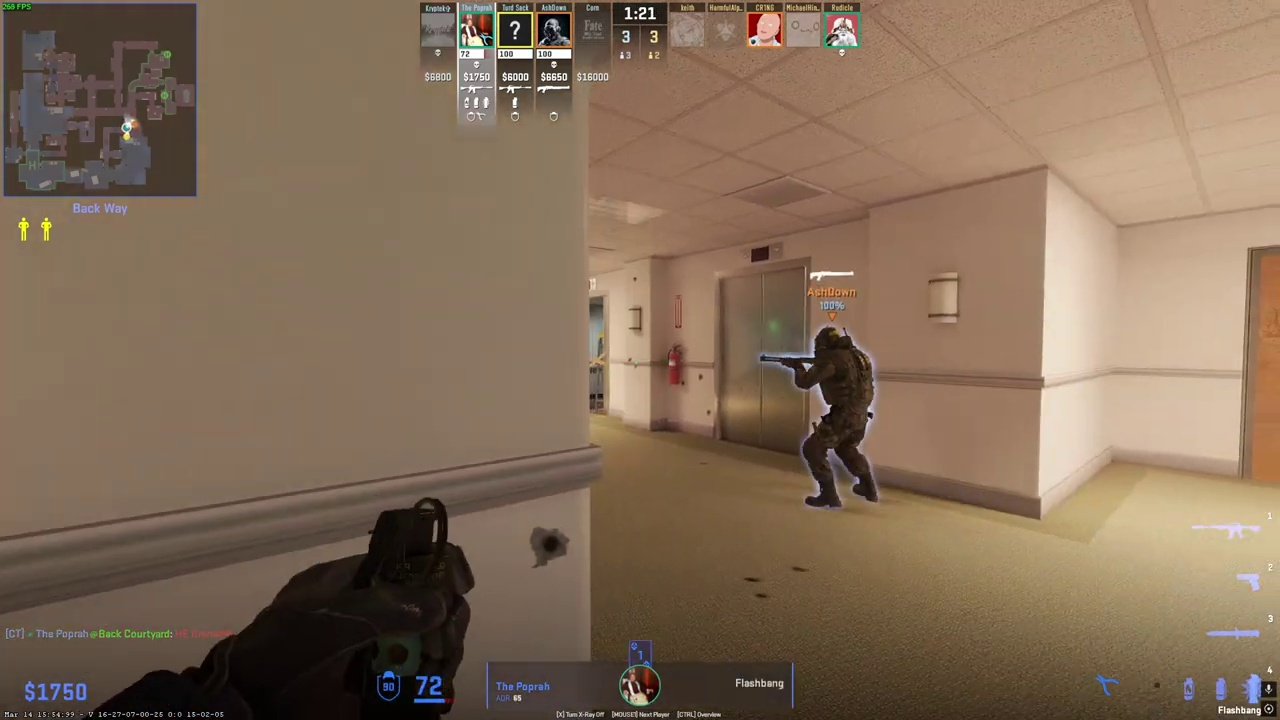CT: (796, 327, 878, 507)
